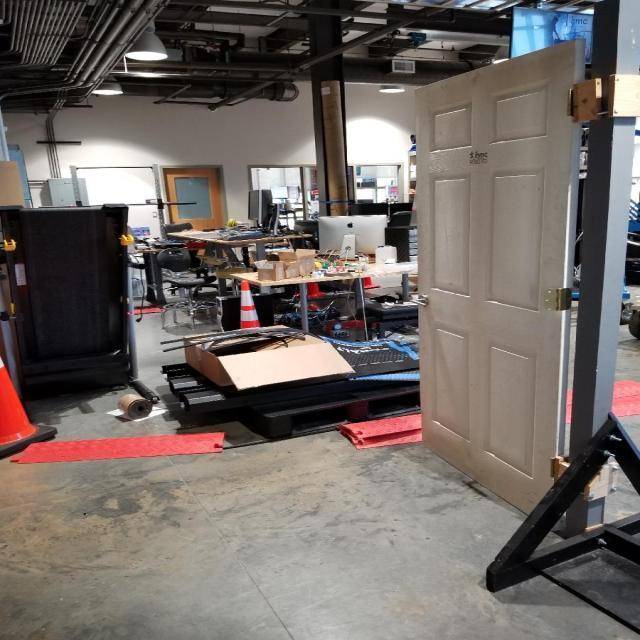door: (409, 34, 587, 536), (410, 295, 444, 306)
